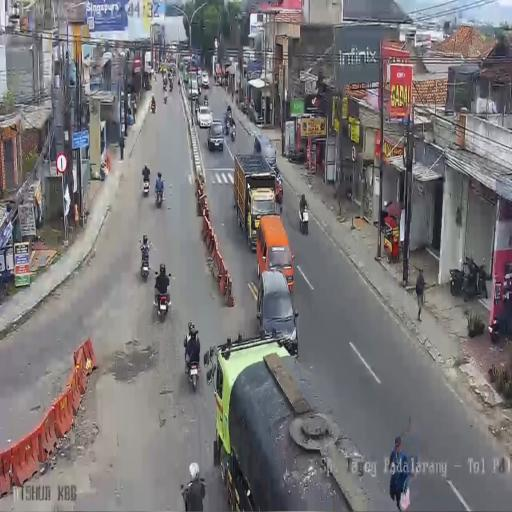car: (256, 268, 297, 346), (252, 132, 276, 170), (207, 120, 225, 151), (196, 105, 213, 129), (201, 71, 209, 89), (197, 68, 202, 82)
motorcycle: (490, 294, 512, 343), (184, 337, 201, 392), (154, 275, 173, 324), (139, 244, 151, 280), (299, 205, 309, 235), (142, 173, 150, 196), (155, 184, 163, 206), (230, 122, 236, 142), (224, 117, 230, 135), (194, 95, 200, 112), (150, 97, 156, 113), (162, 76, 168, 91), (163, 90, 168, 104), (197, 84, 202, 96), (169, 80, 173, 92), (178, 78, 180, 87)
truck: (234, 152, 277, 246), (188, 70, 199, 99), (179, 61, 186, 84), (144, 51, 151, 73)
